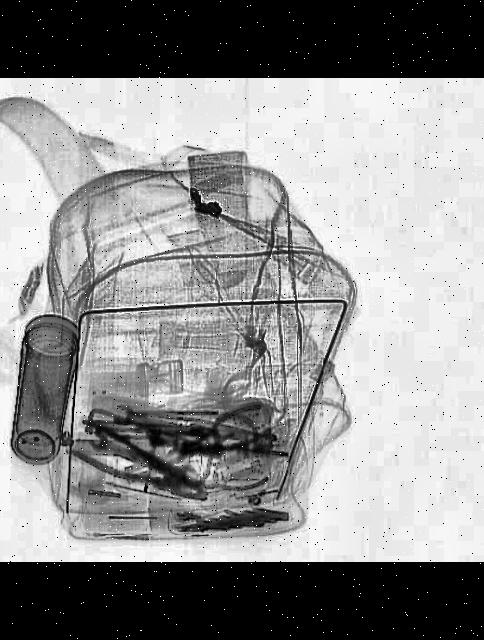Pliers: (61, 414, 221, 516), (176, 434, 272, 512)
